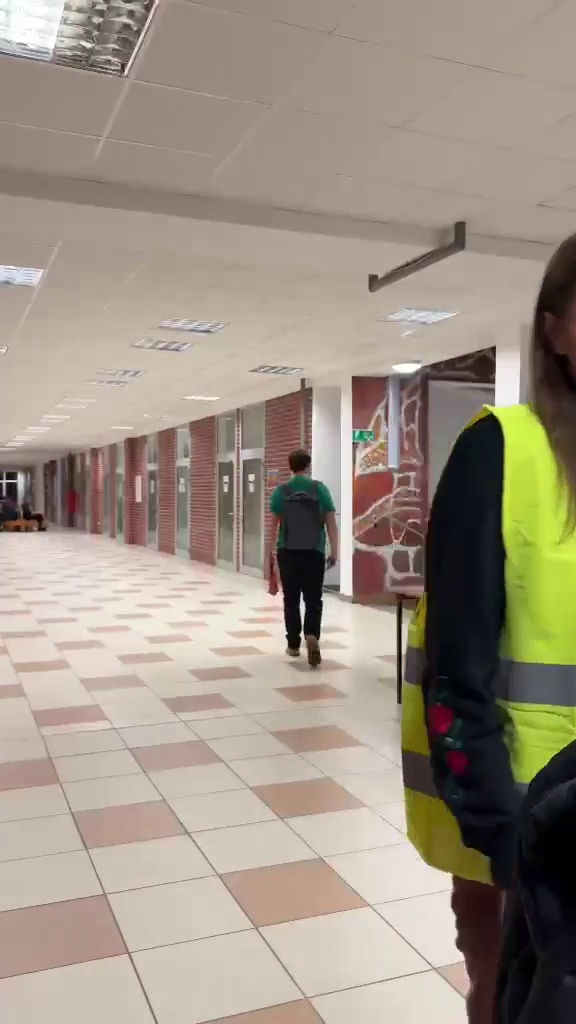no vest: (260, 440, 339, 659)
vest: (384, 248, 576, 989)
